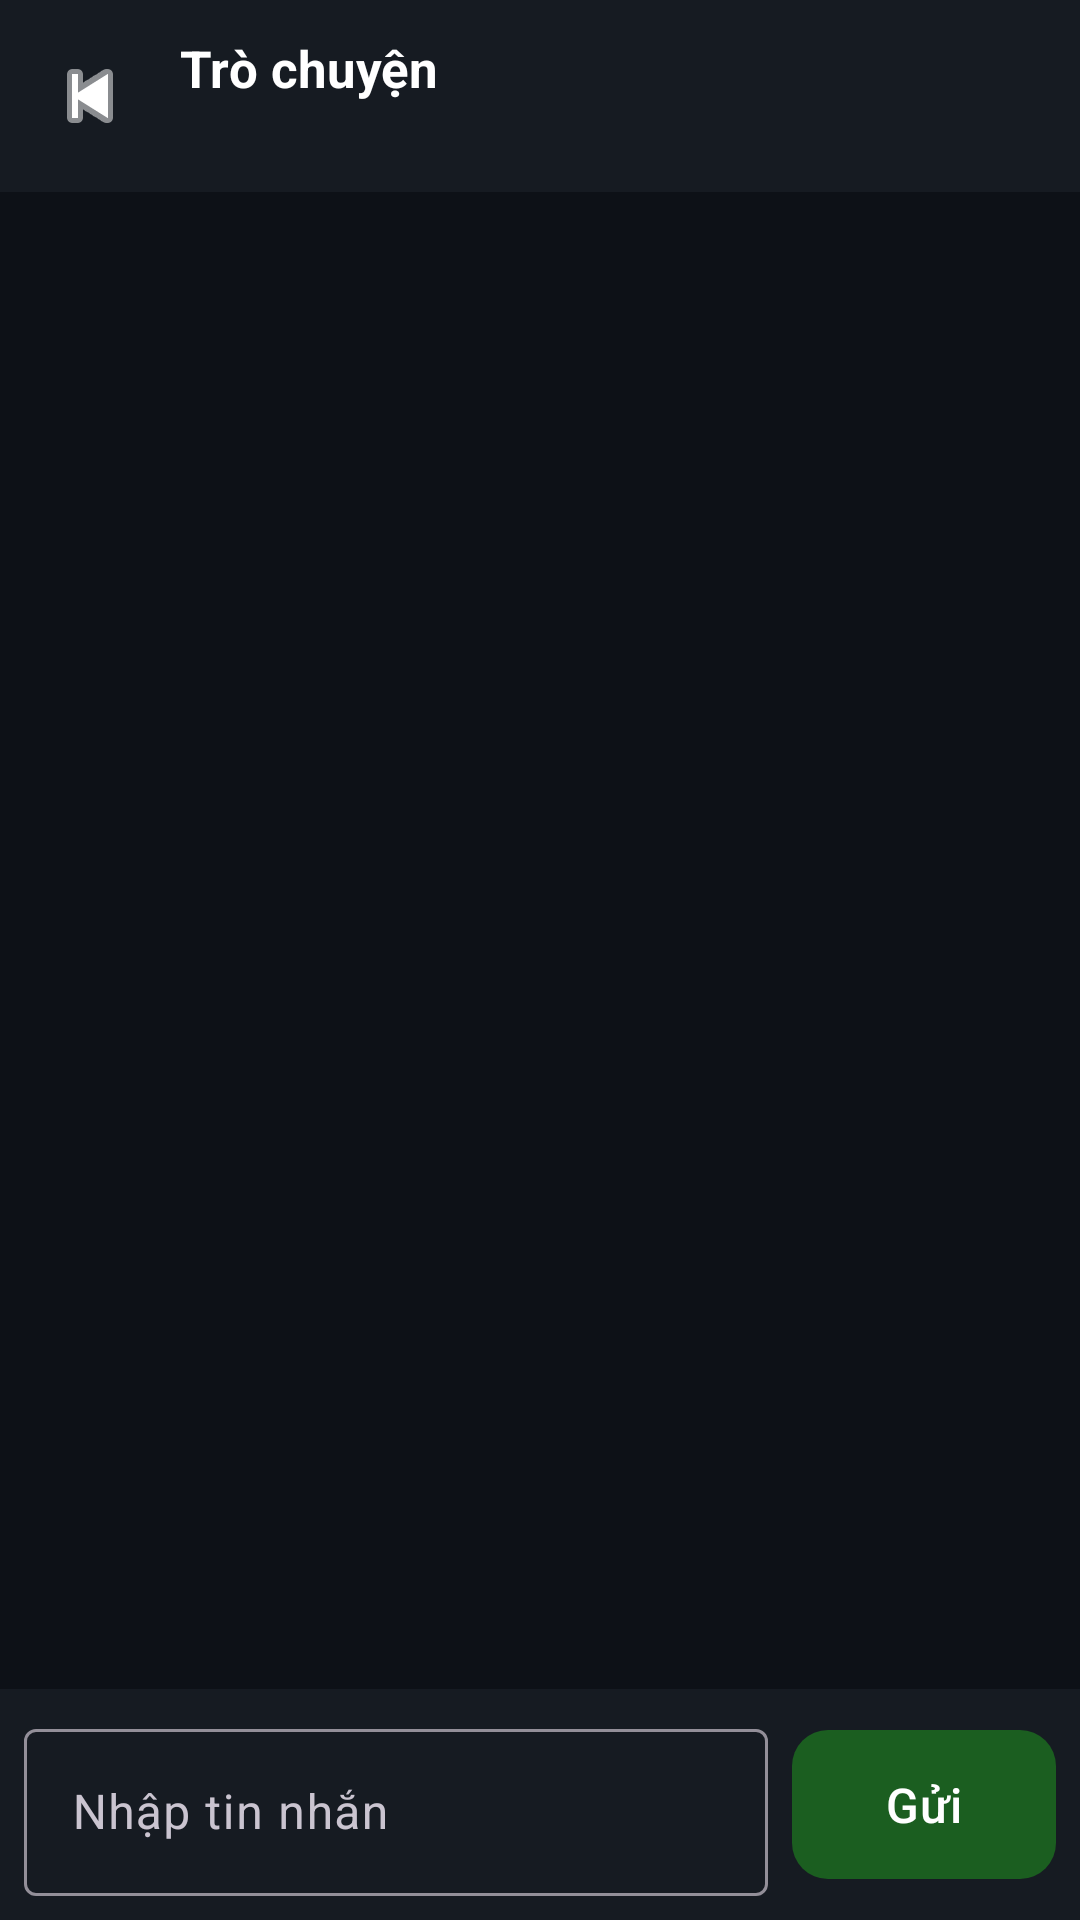

Point at icon controls on the screen. Image size 1080px×1920px, points as [x,y].
Quay lại: [90,96]
